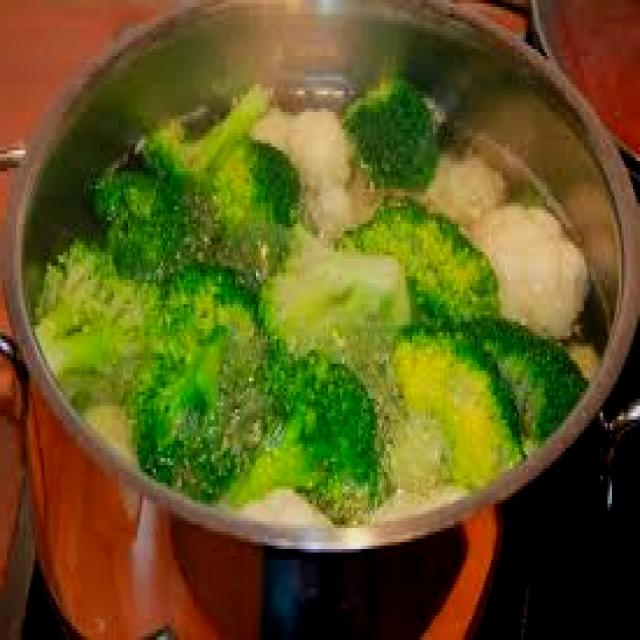broccoli: (120, 70, 537, 487), (25, 234, 178, 394)
ginger: (474, 187, 598, 334), (252, 96, 364, 230), (423, 148, 527, 224)
